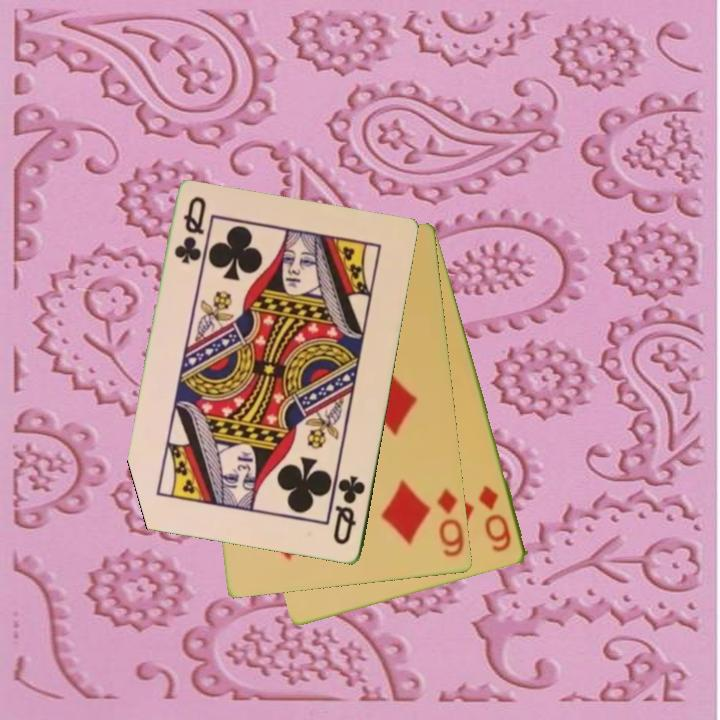6d: (475, 482, 515, 555), (433, 485, 467, 560)
Qc: (330, 472, 369, 548), (171, 193, 210, 267)
